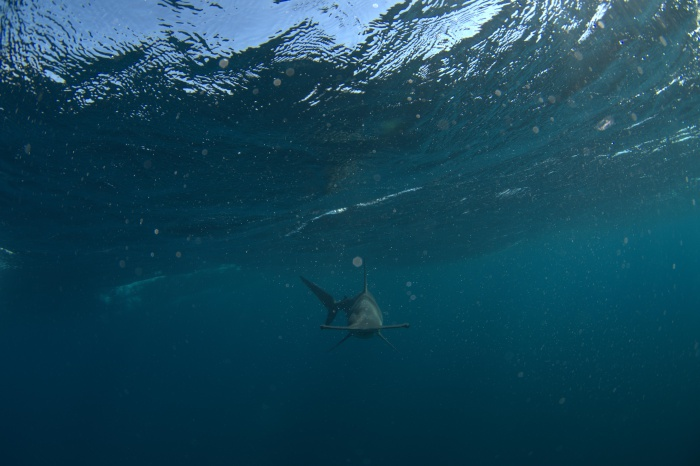Hammer: (291, 251, 408, 355)
